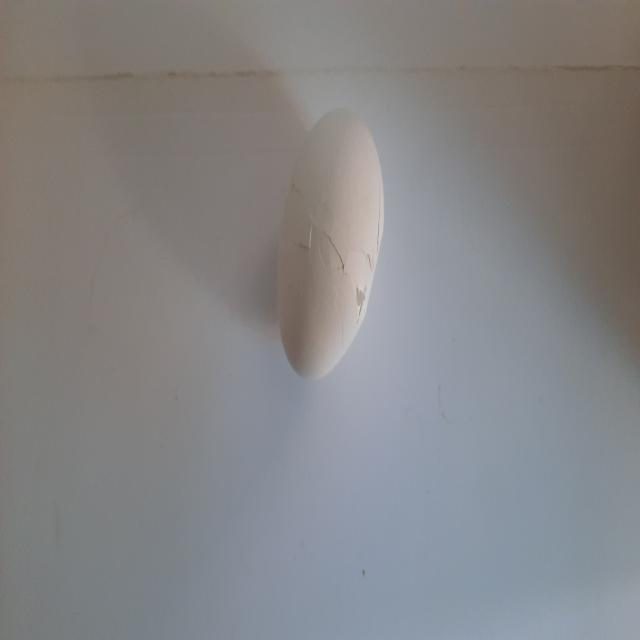egg shell: (274, 102, 388, 390)
